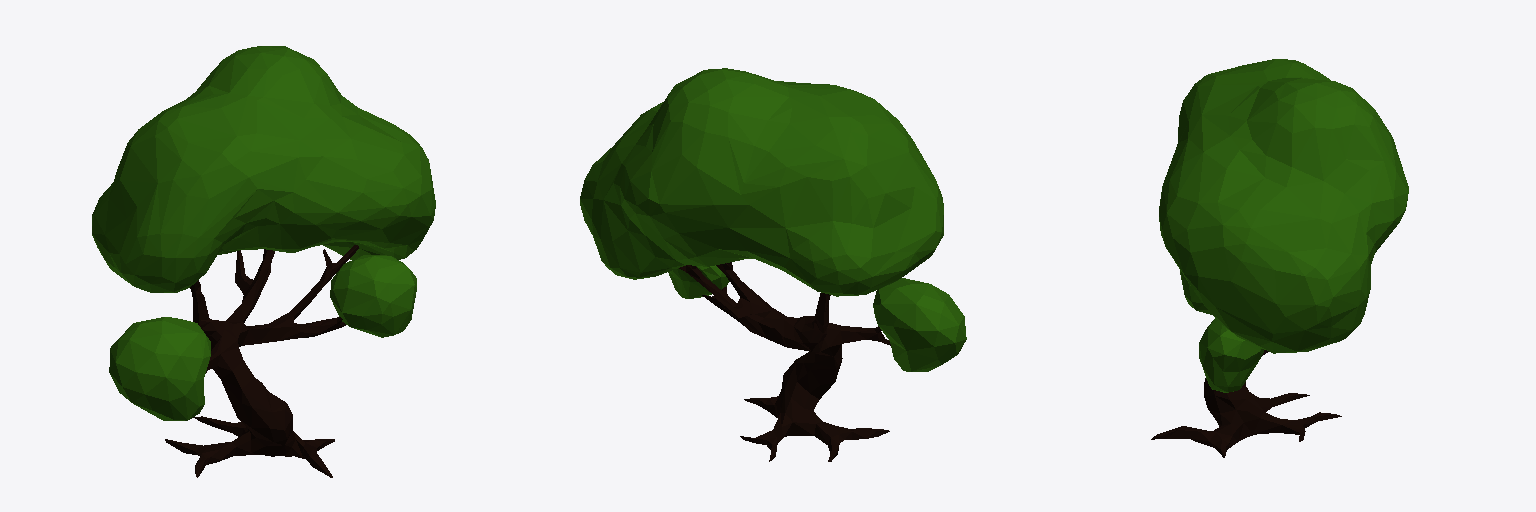
File: tree_lvl_27.obj
The picture shows the model from 3 angles: view 1: azimuth 30°, elevation 25°; view 2: azimuth 150°, elevation 25°; view 3: azimuth 270°, elevation 25°; orthographic projection.
Size of the model in its own units: 18.41 by 19.43 by 12.37.